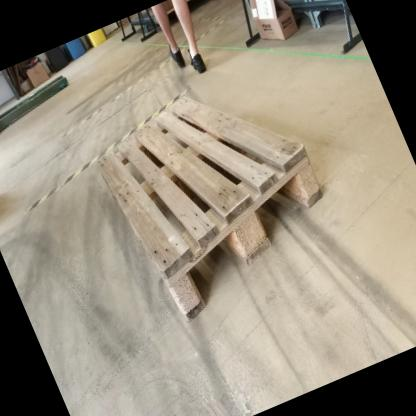BoxFace: (92, 89, 328, 334)
